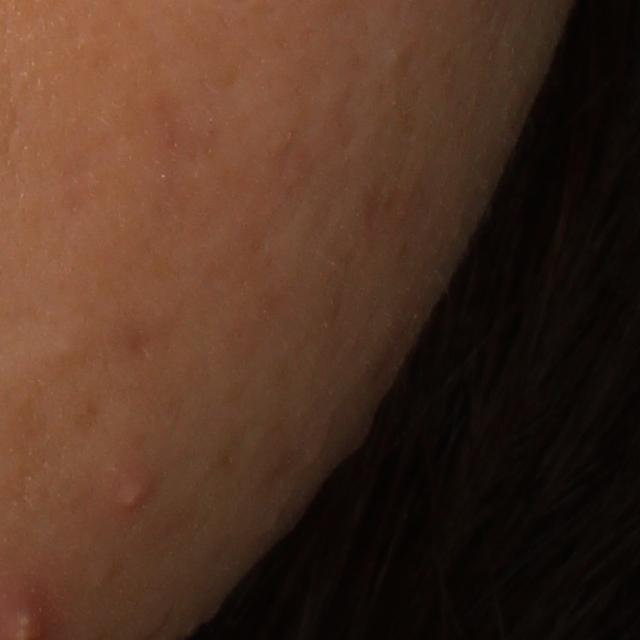comedo: (384, 42, 415, 76)
